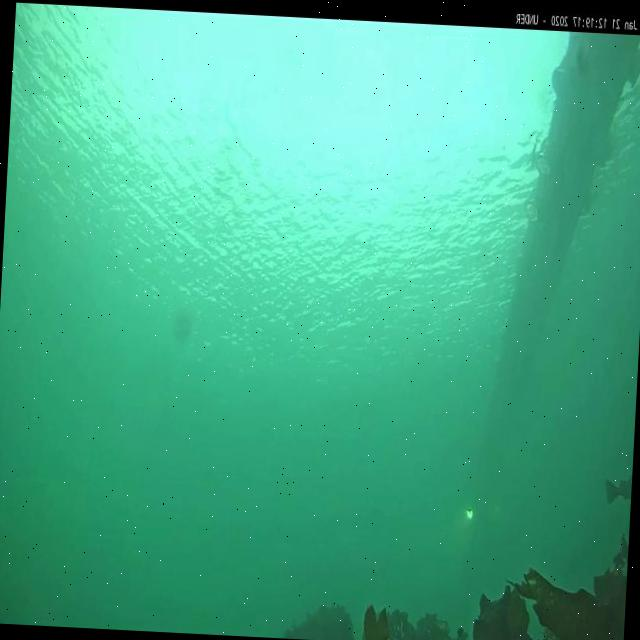fish: (602, 474, 632, 506), (528, 138, 541, 172)
